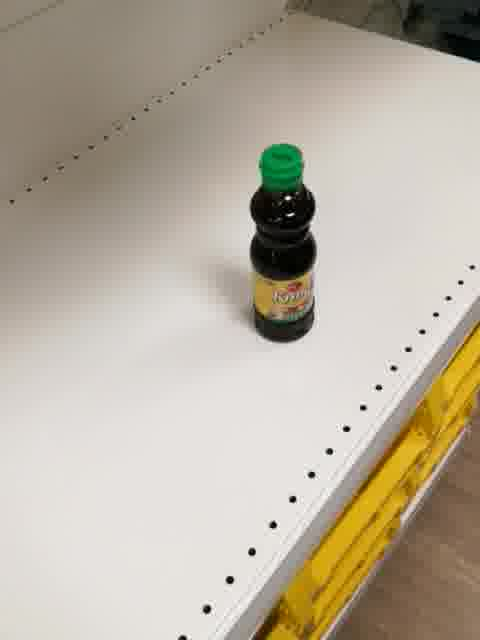cookingoil: (248, 141, 318, 346)
